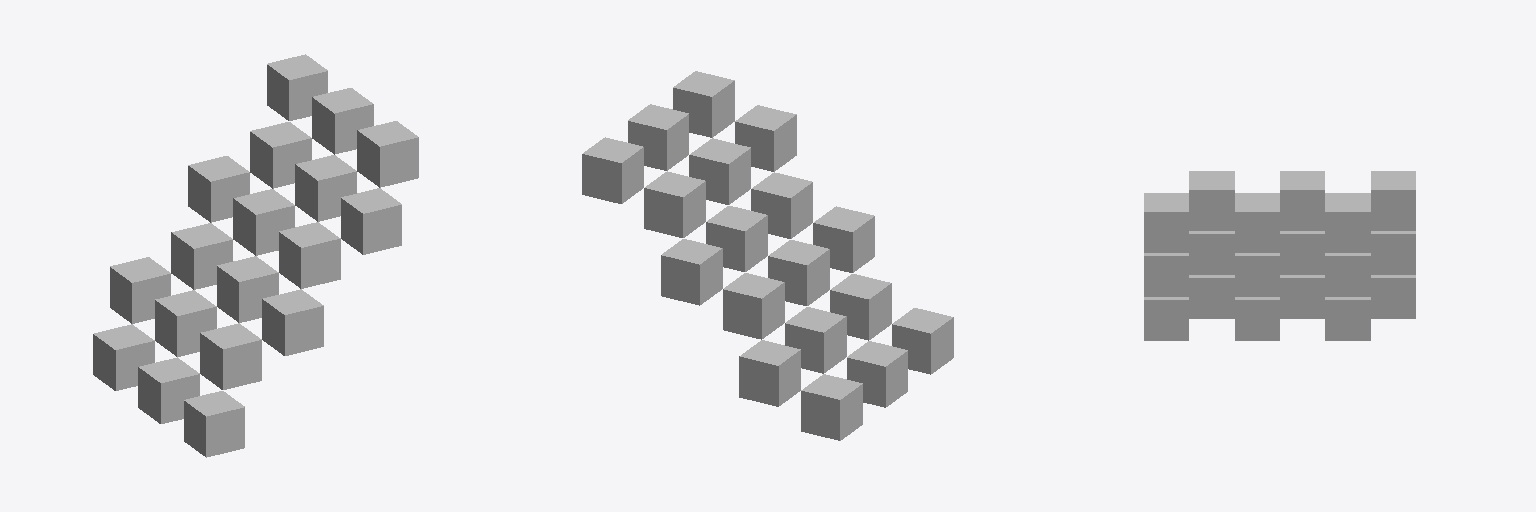
The model's file is Grate Ramp.obj.
The picture shows the model from 3 angles: view 1: azimuth 30°, elevation 25°; view 2: azimuth 150°, elevation 25°; view 3: azimuth 270°, elevation 25°; orthographic projection.
Visible parts, largest first — view 1: object 1; view 2: object 1; view 3: object 1.
Boxes of the visible parts, x1=… form: object 1: x1=93, y1=54, x2=418, y2=457; object 1: x1=582, y1=71, x2=953, y2=440; object 1: x1=1144, y1=171, x2=1415, y2=340.
Bounding box in the file's own units: 0.6 × 0.6 × 0.6.